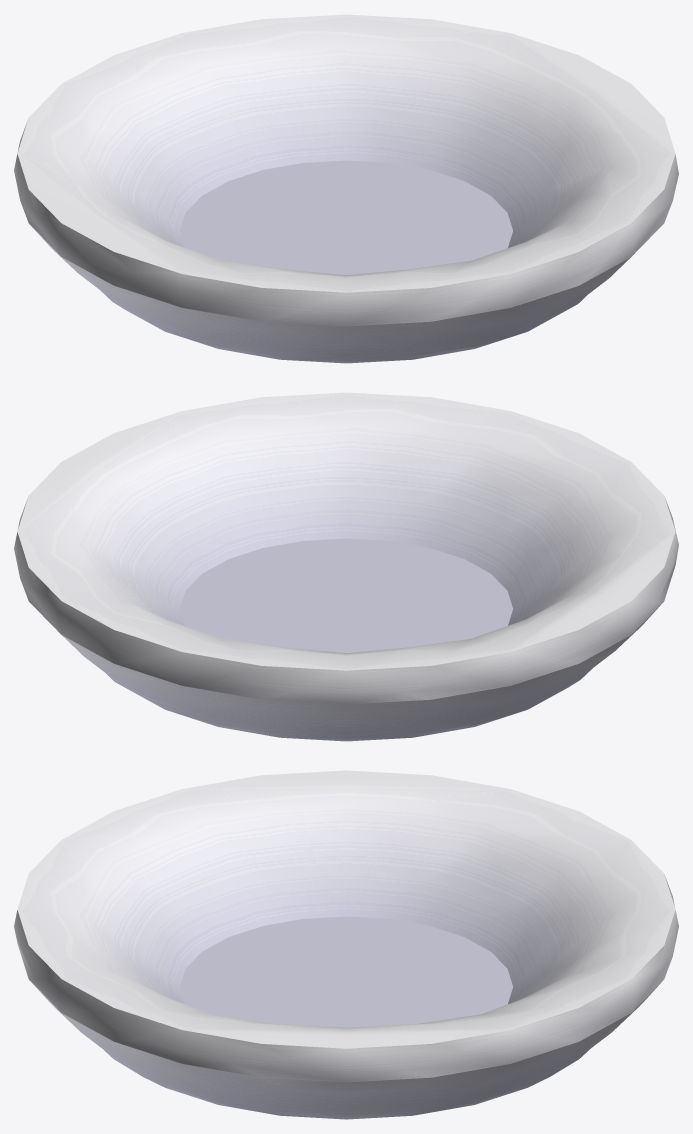
Rendered from plate-deep.glb.
3 renders of one model, top to bottom at view 1: azimuth 30°, elevation 25°; view 2: azimuth 150°, elevation 25°; view 3: azimuth 270°, elevation 25°, orthographic.
Parts seen in each view (by area): view 1: plate-deep; view 2: plate-deep; view 3: plate-deep.
Part boxes in pixels (left/top/right/bottom): plate-deep: left=14, top=14, right=678, bottom=363; plate-deep: left=14, top=392, right=678, bottom=741; plate-deep: left=14, top=770, right=678, bottom=1119.
Bounding box in the file's own units: 0.8608 × 0.1449 × 0.8608.
Materials: 1 (1 with a texture image).
